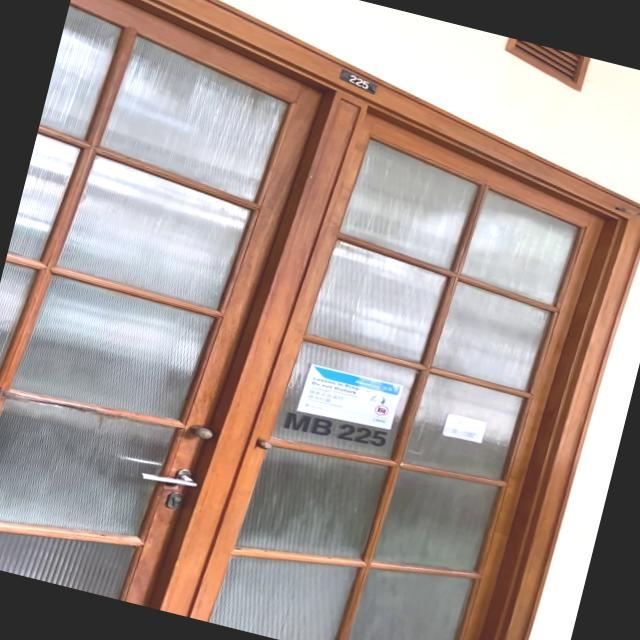room225: (335, 69, 382, 96)
room225Window: (282, 406, 389, 454)
